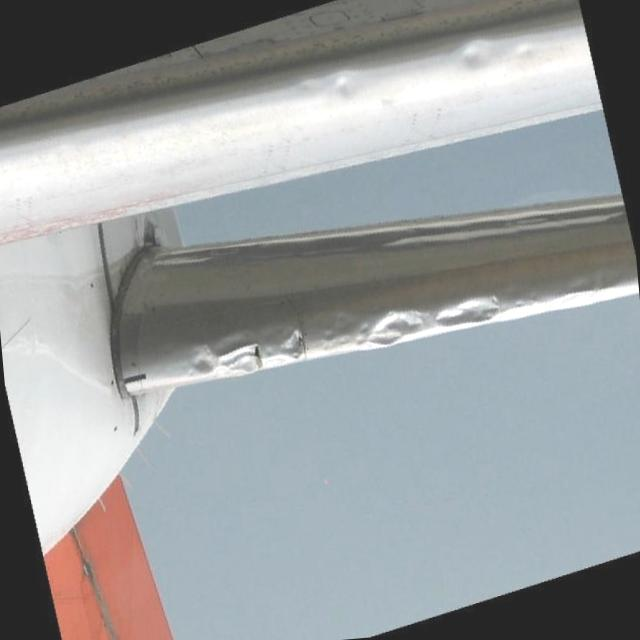dent: (180, 266, 628, 388), (299, 34, 545, 100)
